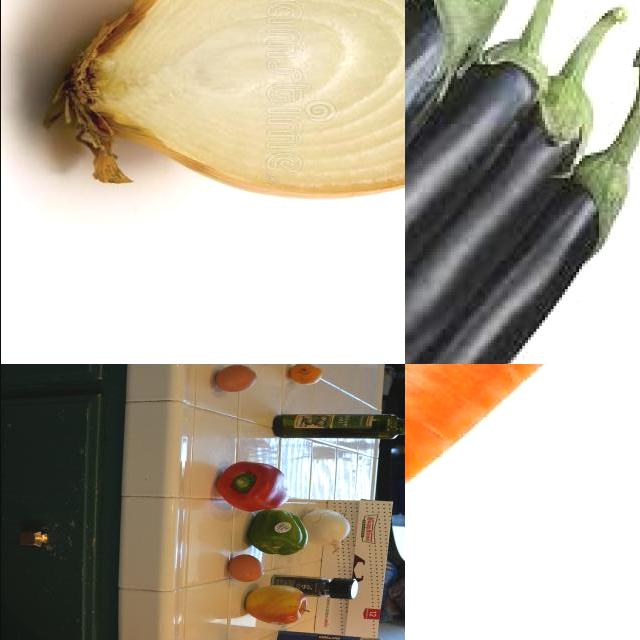bell_pepper: (213, 459, 287, 515), (247, 514, 309, 553), (275, 571, 361, 599)
carrot: (405, 365, 640, 628)
egg: (213, 365, 257, 397), (225, 555, 265, 583)
eggplant: (405, 82, 593, 365), (405, 150, 636, 365), (405, 42, 551, 365), (405, 1, 514, 298)
onion: (40, 1, 405, 203), (301, 508, 351, 556)
